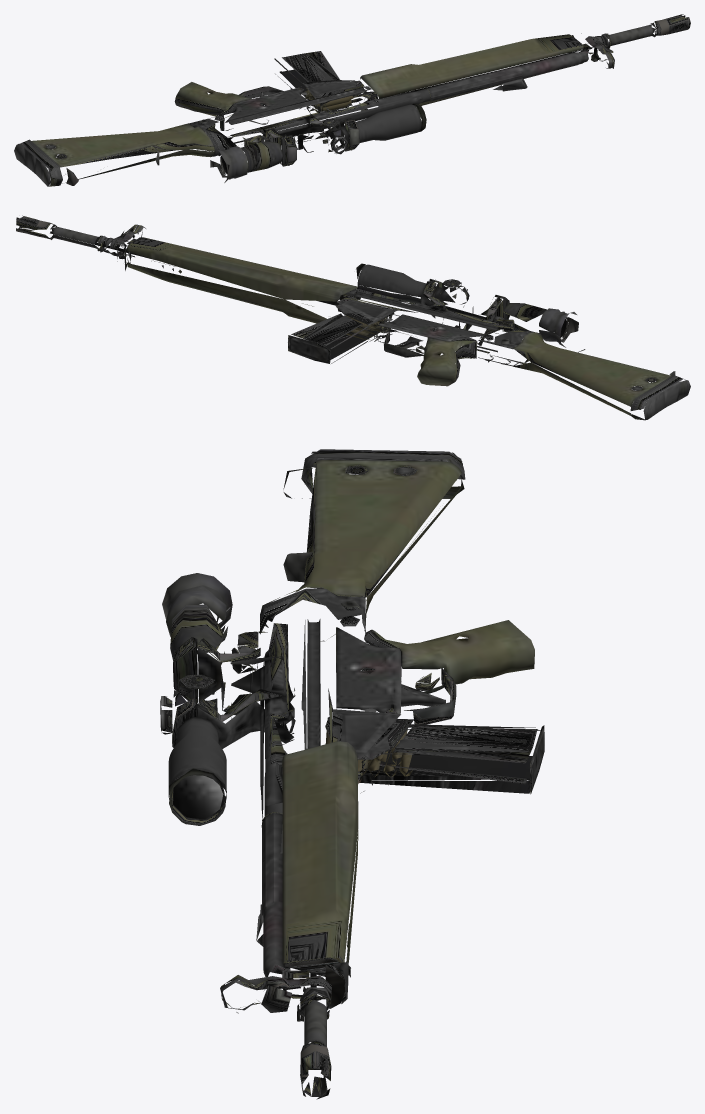
The picture shows the model from 3 angles, top to bottom: view 1: azimuth 30°, elevation 25°; view 2: azimuth 150°, elevation 25°; view 3: azimuth 270°, elevation 25°; orthographic projection. The views are drawn at different scales.
Parts seen in each view (by area): view 1: p_g3sg1; view 2: p_g3sg1; view 3: p_g3sg1.
Part boxes in pixels (bbox=[...]): p_g3sg1: bbox=[14, 14, 690, 186]; p_g3sg1: bbox=[16, 215, 690, 420]; p_g3sg1: bbox=[160, 449, 544, 1099].
Size of the model in its own units: 1.43 by 0.0804 by 0.3711.
Materials: 2 (2 with a texture image).
